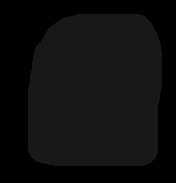fp: (23, 10, 164, 177)
